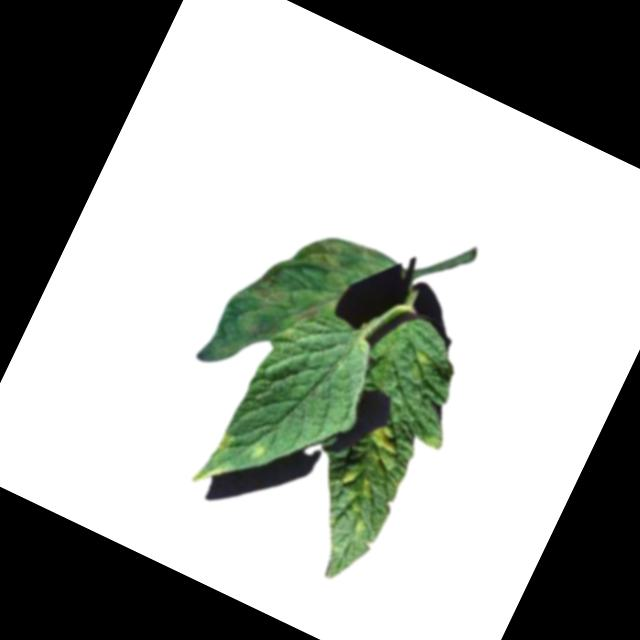Leaf_Mold: (186, 419, 269, 507), (232, 248, 299, 318), (296, 224, 366, 289), (364, 416, 409, 462)
